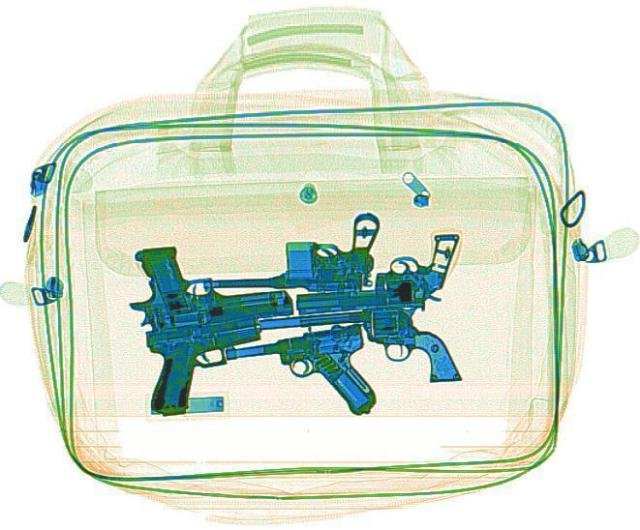Gun: (255, 301, 463, 394), (114, 232, 296, 336), (218, 317, 382, 430), (132, 311, 274, 416), (204, 212, 380, 292), (290, 232, 462, 310)
